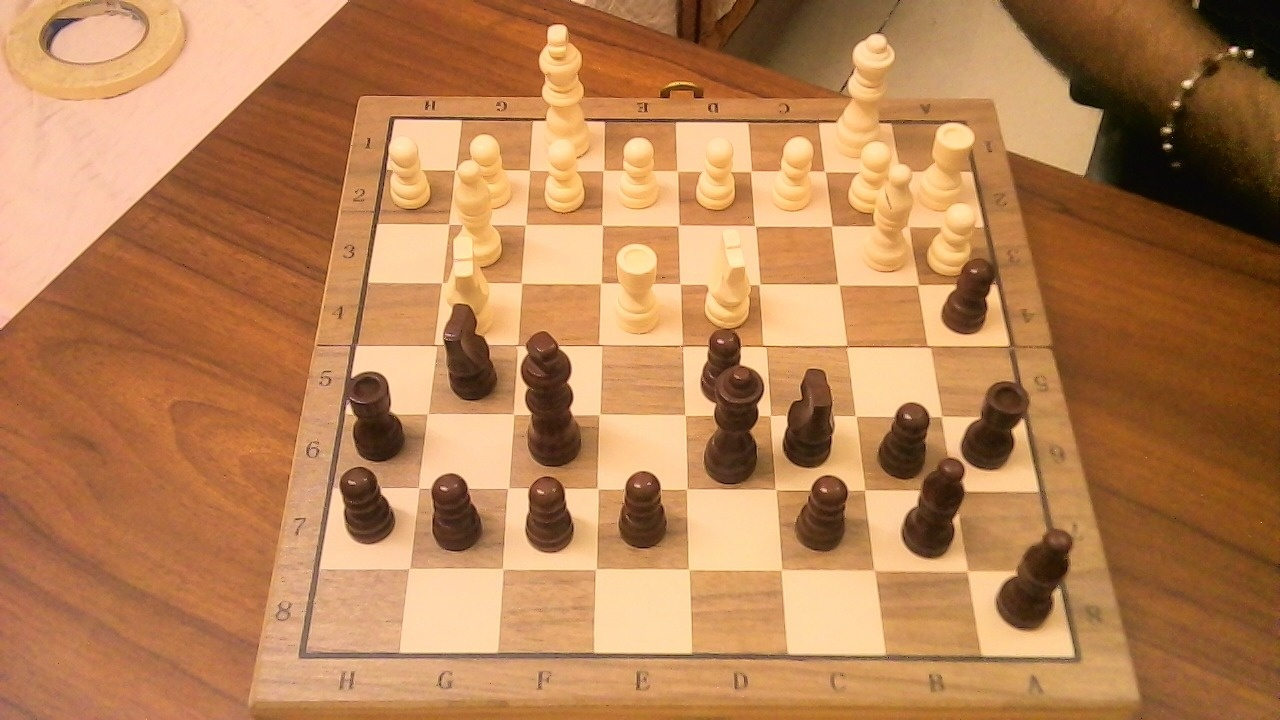B: (855, 154, 923, 278), (448, 148, 513, 271)
K: (532, 13, 598, 161)
N: (692, 238, 759, 328), (456, 232, 496, 312)
P: (841, 132, 904, 219), (763, 127, 823, 216), (923, 194, 986, 278), (459, 126, 518, 213), (535, 129, 592, 217), (610, 128, 666, 214), (688, 128, 744, 214), (382, 129, 437, 211)
Q: (828, 21, 901, 164)
R: (917, 111, 983, 216), (605, 232, 668, 340)
b: (994, 514, 1085, 632), (921, 445, 979, 564)
k: (517, 321, 594, 468)
n: (434, 289, 508, 404), (780, 354, 849, 470)
p: (332, 456, 405, 548), (936, 246, 1007, 339), (421, 462, 493, 553), (788, 464, 860, 554), (693, 317, 754, 408), (880, 400, 942, 480), (618, 470, 668, 550), (522, 477, 576, 550)
q: (694, 352, 775, 487)
r: (956, 368, 1039, 471), (342, 359, 415, 464)
